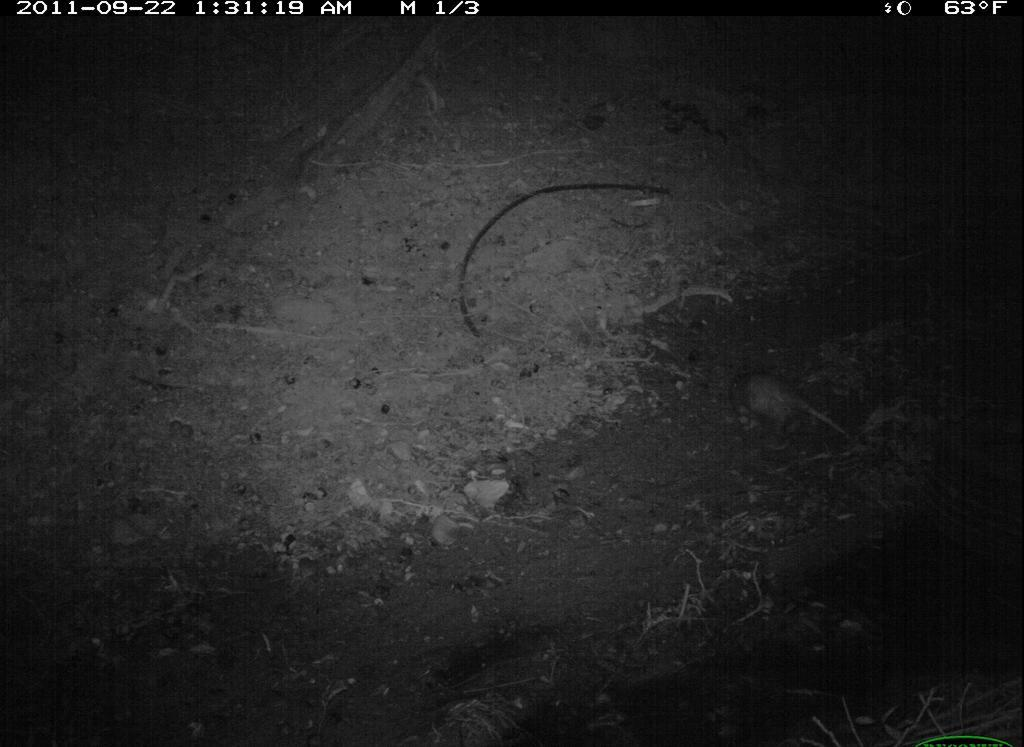opossum: (711, 355, 859, 463)
